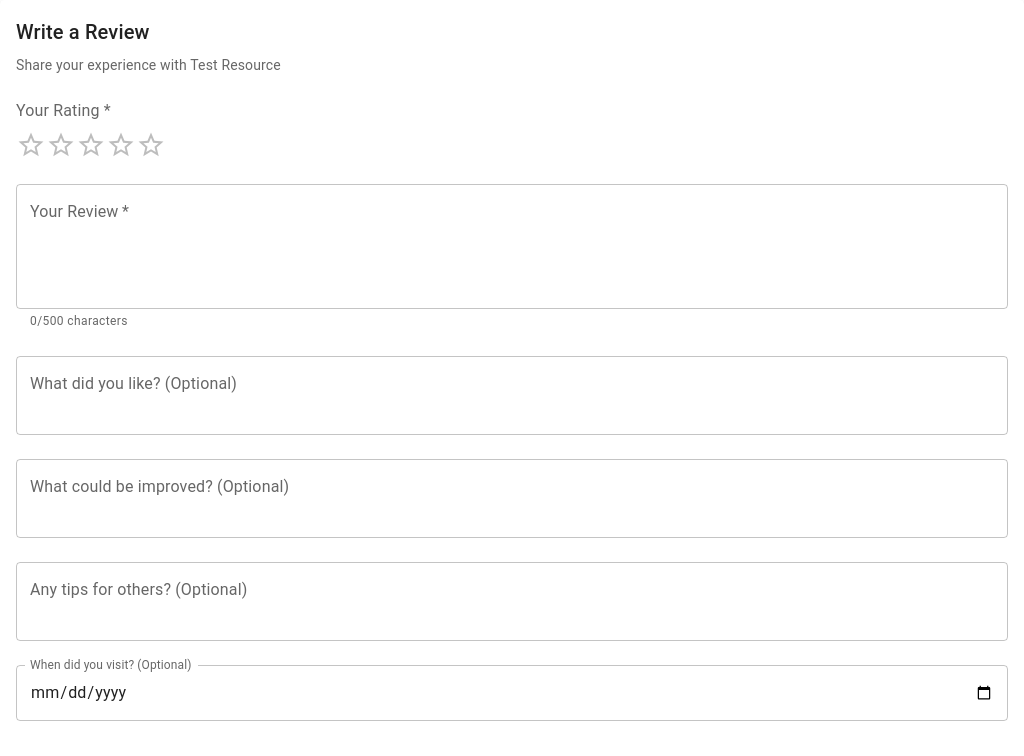
Scenario: ReviewForm › updates character count when typing
The width and height of the screenshot is (1024, 756).
Expected: the text "0/500 characters" is shown, left=30, top=314, right=128, bottom=328
Type "Hello" into the text box labelled "Your Review *" at (512, 246), box left=30, top=200, right=994, bottom=292
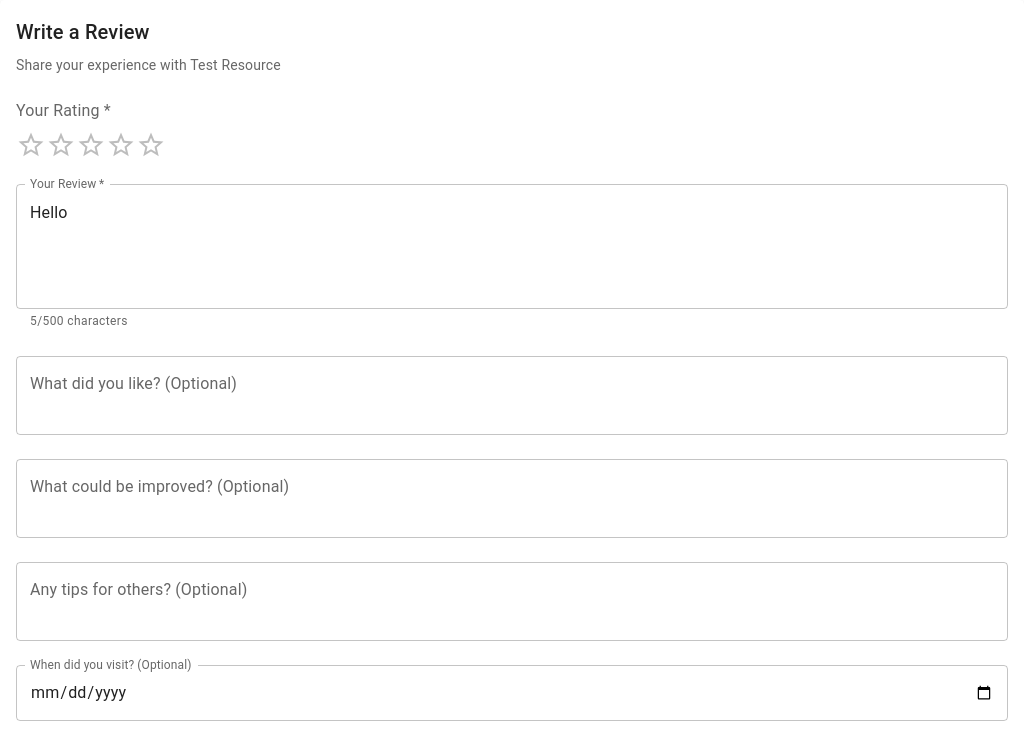
Result: the text "5/500 characters" is shown at left=30, top=314, right=128, bottom=328
